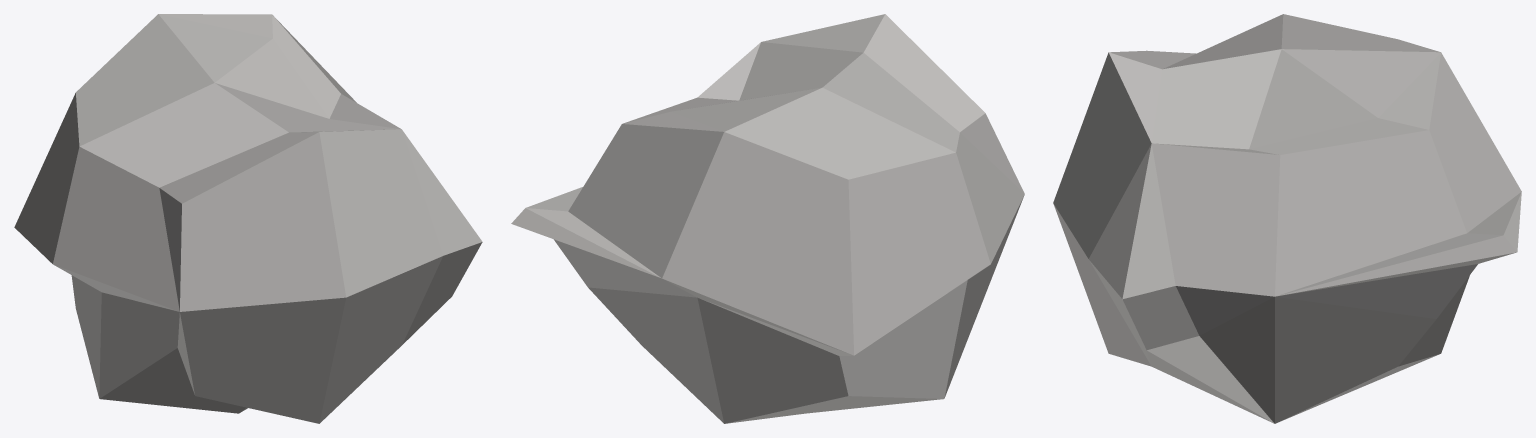
The model's file is SM_Prop_Rubbish_01.glb.
3 renders of one model, left to right at view 1: azimuth 30°, elevation 25°; view 2: azimuth 150°, elevation 25°; view 3: azimuth 270°, elevation 25°, orthographic. The views are drawn at different scales.
Parts seen in each view (by area): view 1: SM_Prop_Rubbish_01; view 2: SM_Prop_Rubbish_01; view 3: SM_Prop_Rubbish_01.
Part boxes in pixels (<box>): SM_Prop_Rubbish_01: <box>14,14,482,423</box>; SM_Prop_Rubbish_01: <box>511,14,1024,423</box>; SM_Prop_Rubbish_01: <box>1053,14,1521,423</box>.
Size of the model in its own units: 0.1423 by 0.1245 by 0.1504.
Materials: 1 (1 with a texture image).
